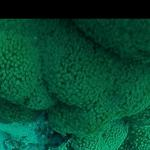alive: (4, 4, 148, 147)
